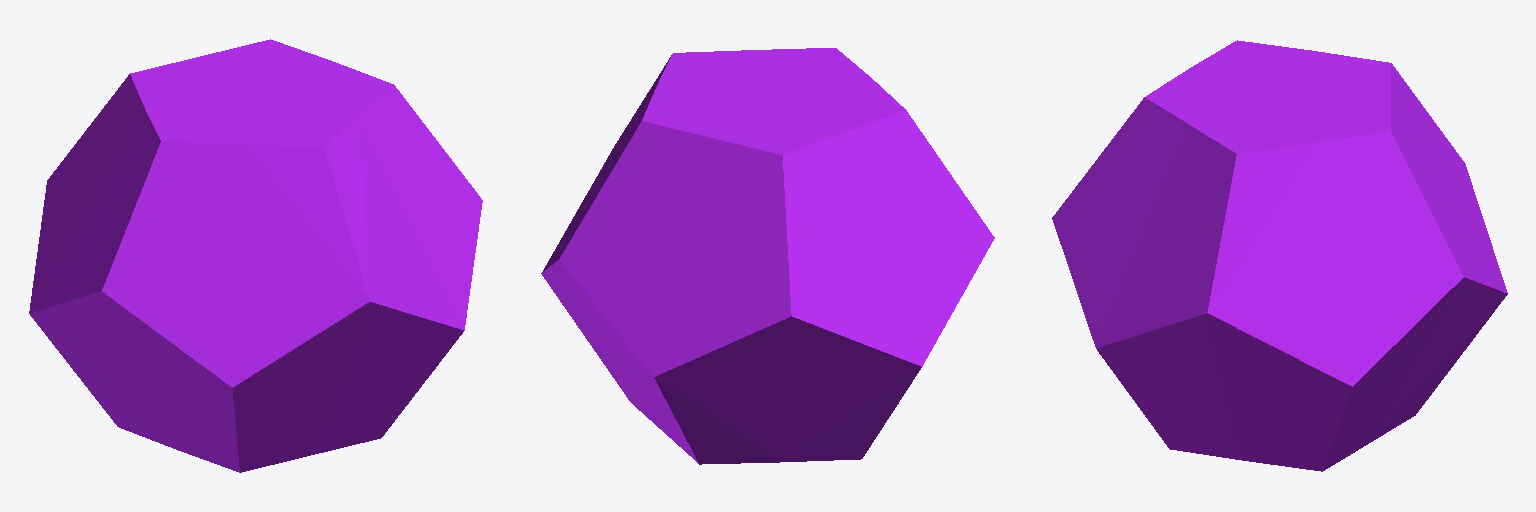
The picture shows the model from 3 angles: view 1: azimuth 30°, elevation 25°; view 2: azimuth 150°, elevation 25°; view 3: azimuth 270°, elevation 25°; orthographic projection.
Parts seen in each view (by area): view 1: Cube; view 2: Cube; view 3: Cube.
Part boxes in pixels (left/top/right/bottom): Cube: left=29, top=39, right=482, bottom=472; Cube: left=541, top=48, right=994, bottom=464; Cube: left=1052, top=40, right=1507, bottom=471.
Bounding box in the file's own units: 3.34 × 2.66 × 3.46.
Materials: 1 (1 with a texture image).